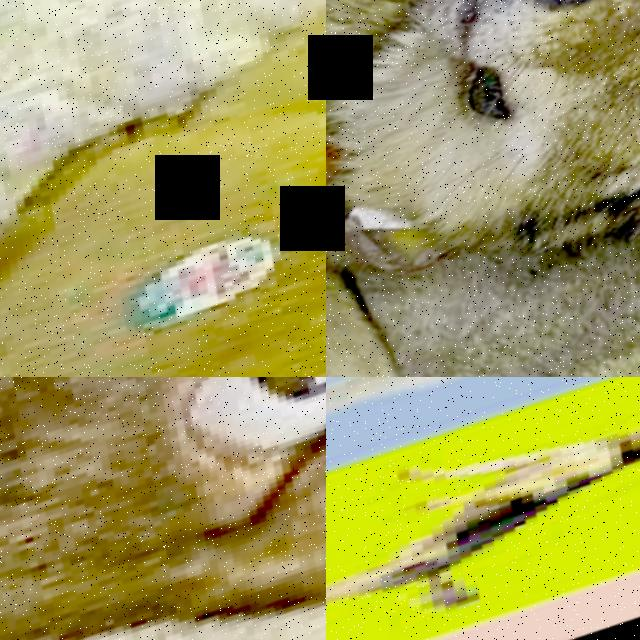dog: (0, 0, 326, 377), (0, 377, 326, 640), (326, 377, 640, 640), (326, 377, 640, 490)
wolf: (326, 0, 640, 377), (326, 126, 640, 377)
